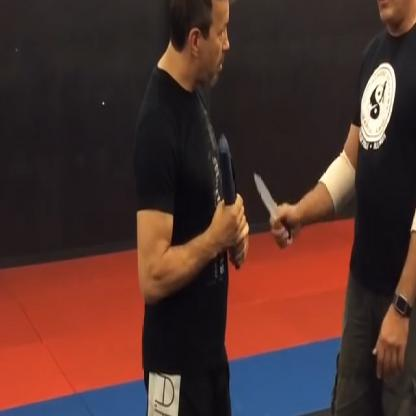knife: (250, 163, 297, 252)
